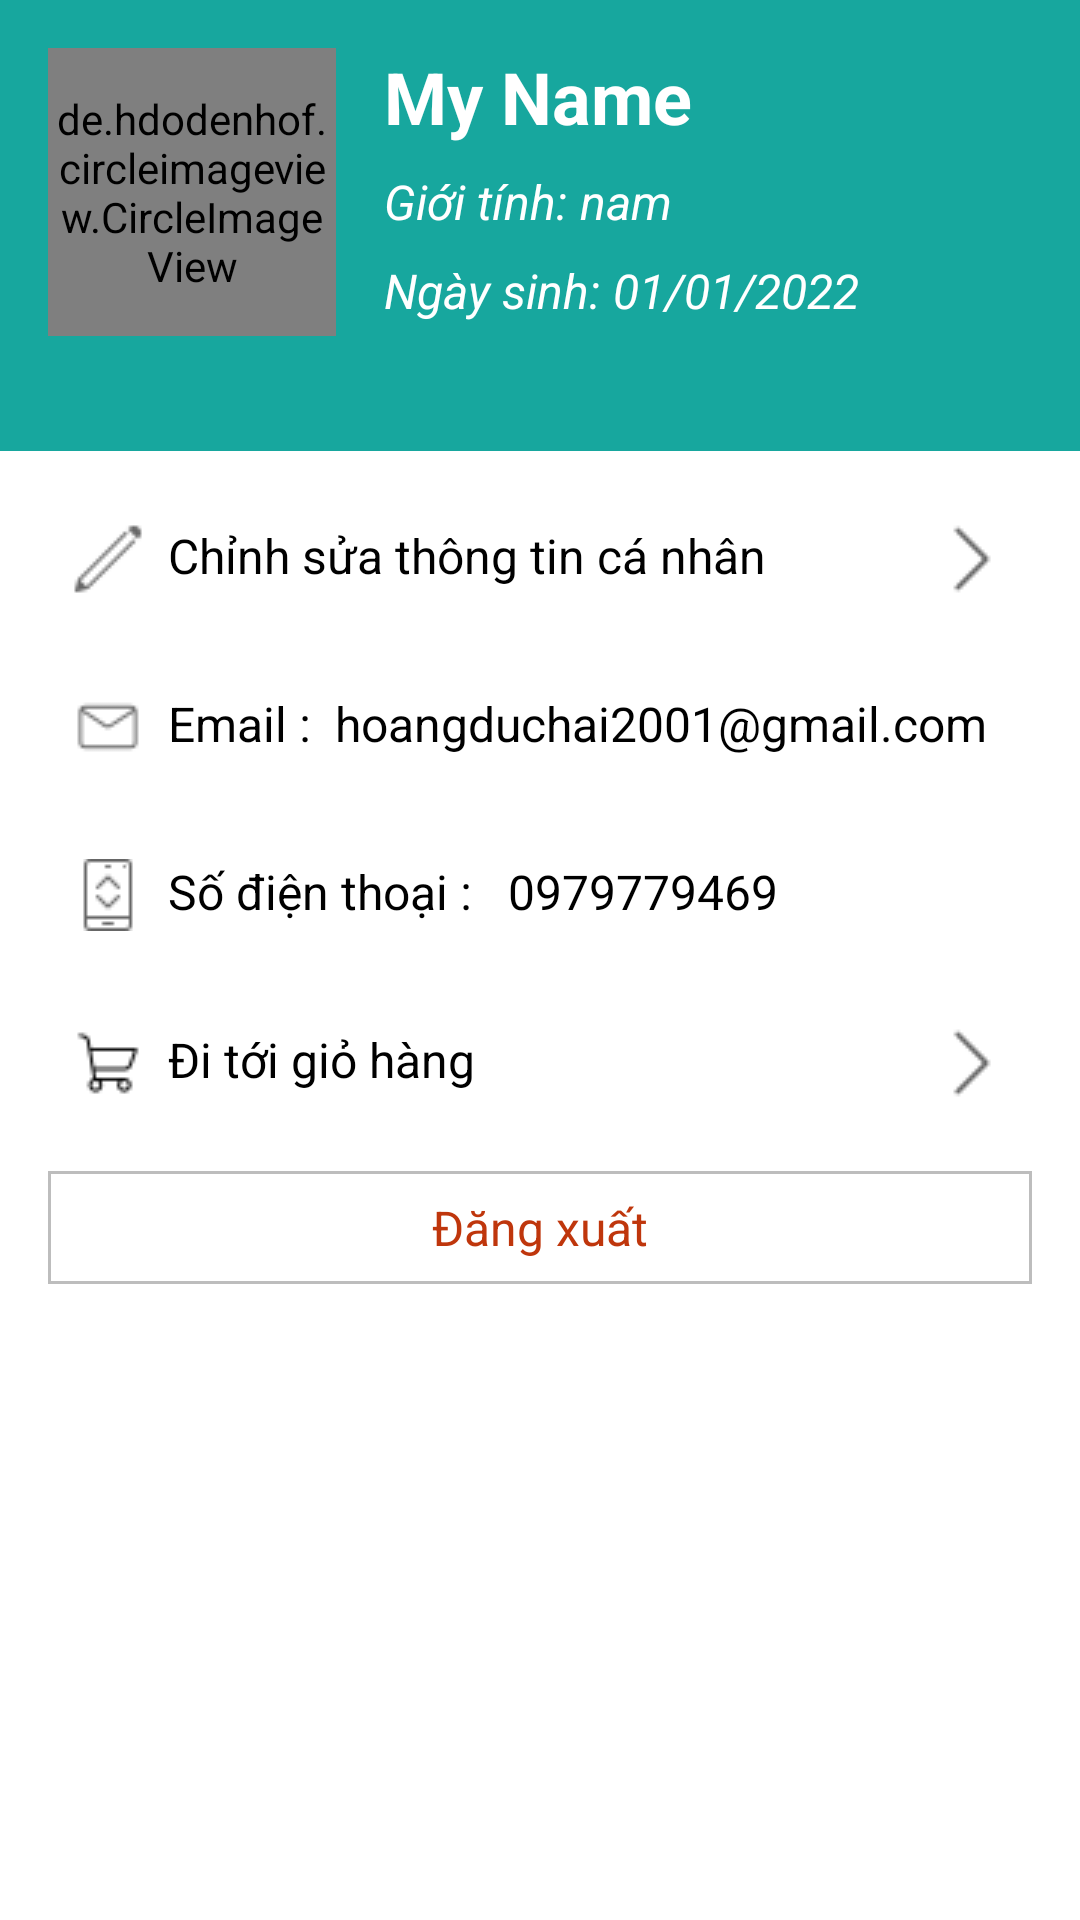

Icon click points for this 1080 x 1920 phone screenshot, format point (x, y):
basket: point (108, 1063)
edit: point (108, 559)
next: point (971, 559), point (971, 1063)
phone: point (108, 895)
